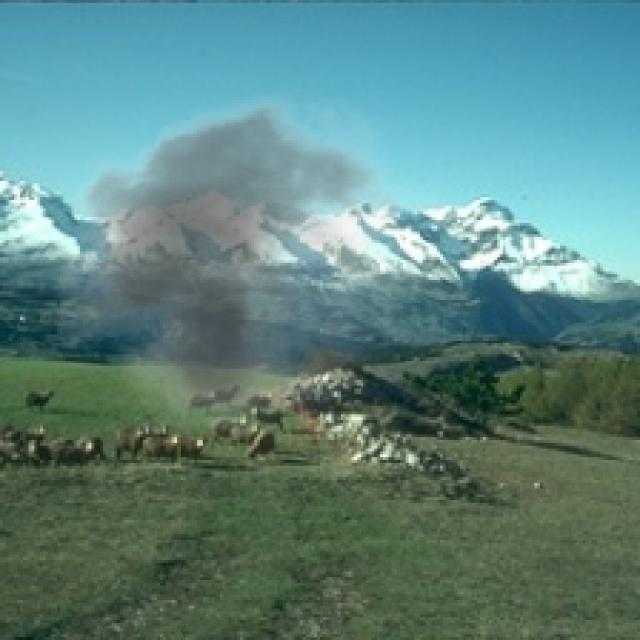smoke: (34, 80, 449, 437)
